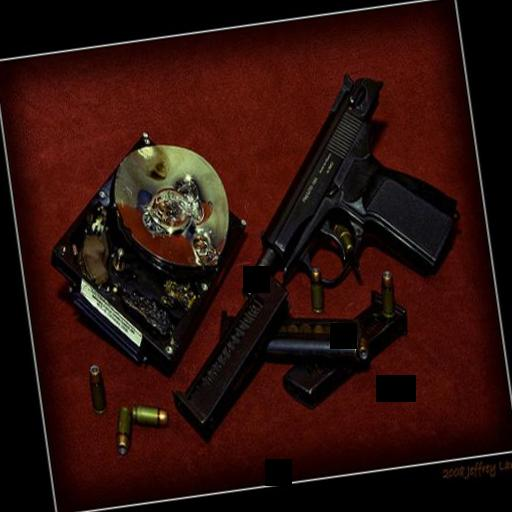Handgun: (210, 58, 468, 312)
